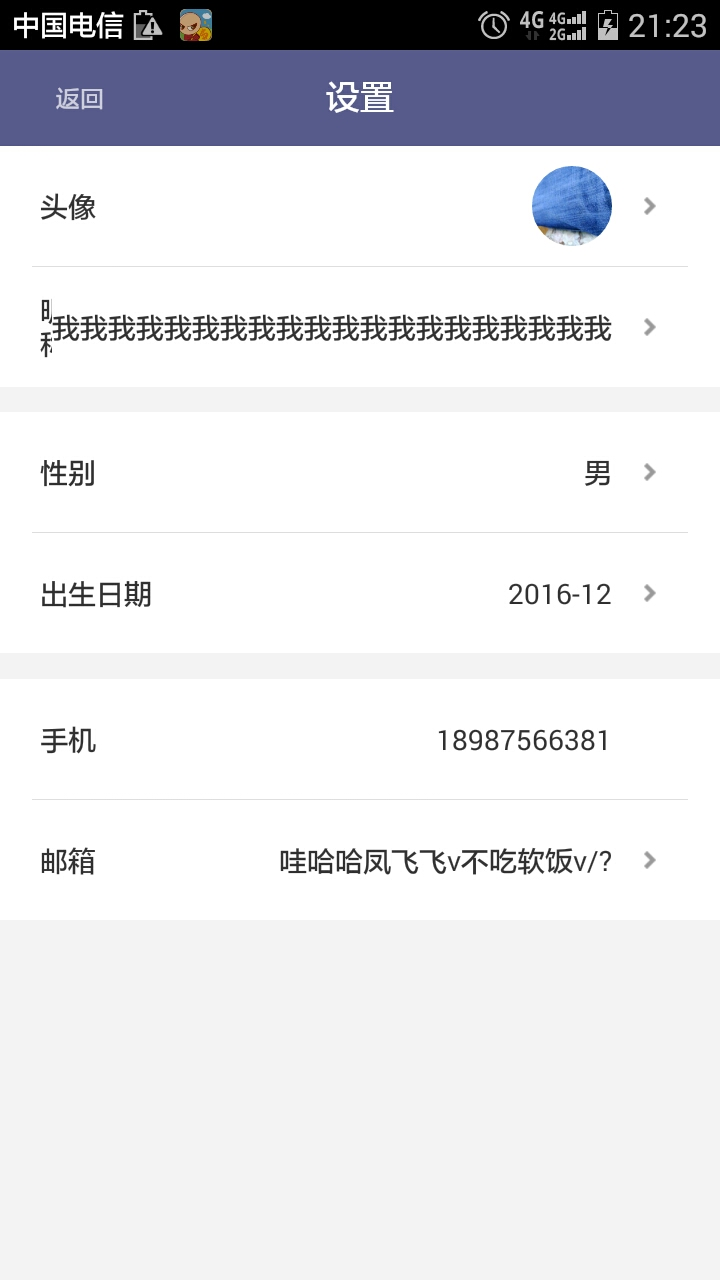imgview: (525, 158, 618, 250)
